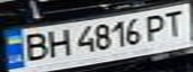1: (109, 18, 130, 48)
4: (72, 22, 96, 54)
6: (124, 16, 148, 46)
8: (90, 20, 115, 52)
B: (18, 29, 51, 63)
H: (42, 26, 75, 59)
P: (139, 11, 172, 42)
T: (160, 7, 190, 38)
